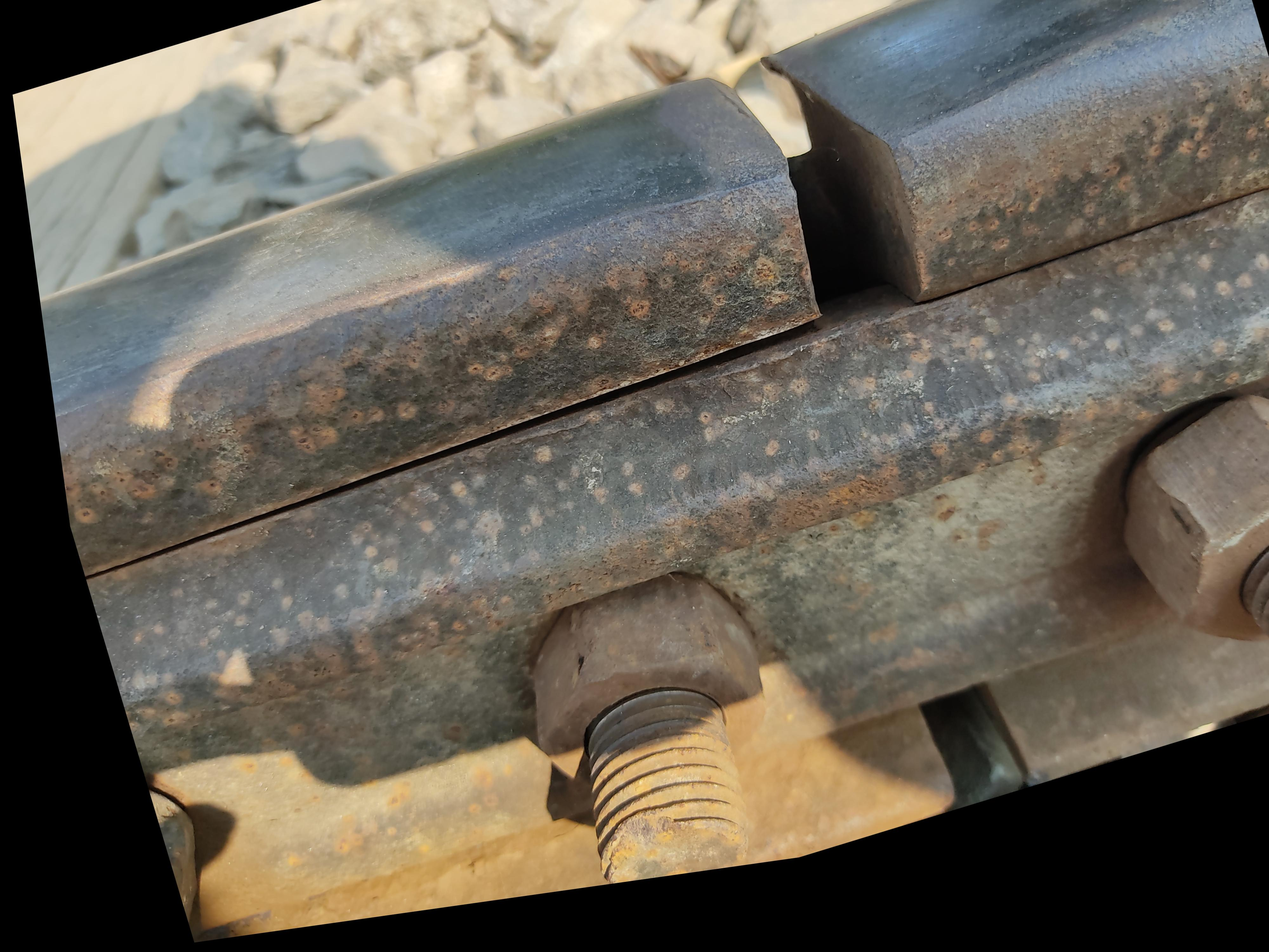person: (474, 23, 1037, 576)
